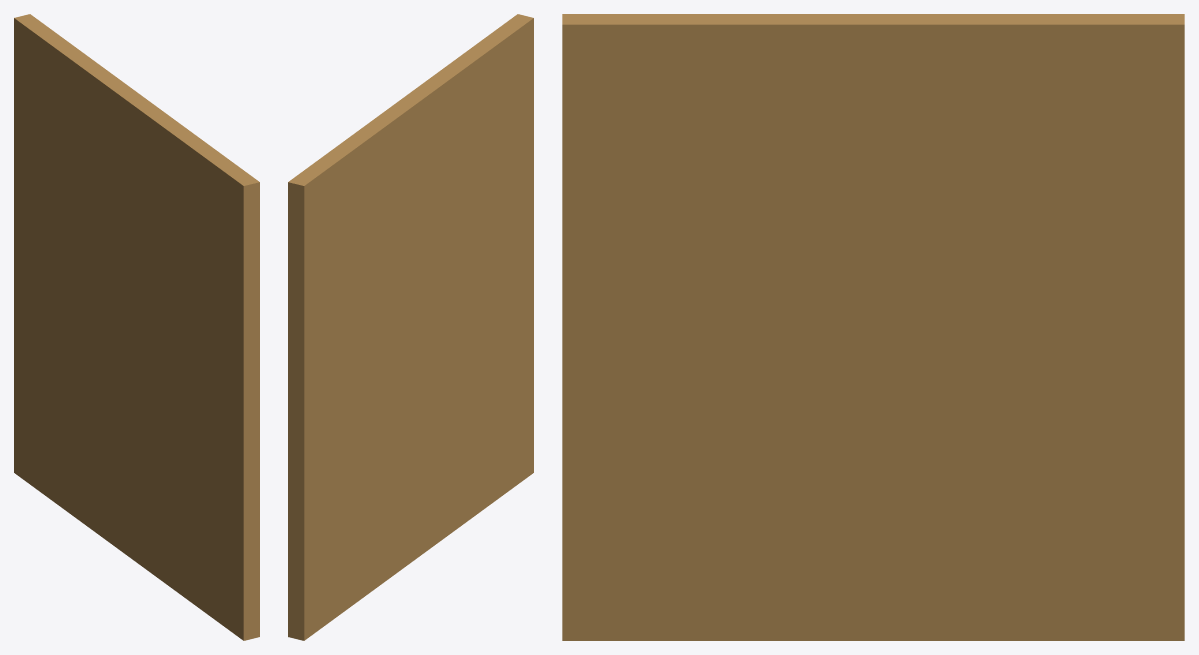
3 views of the same model, side by side, from view 1: azimuth 30°, elevation 25°; view 2: azimuth 150°, elevation 25°; view 3: azimuth 270°, elevation 25° (orthographic). The views are drawn at different scales.
Visible parts, largest first — view 1: FF-W054; view 2: FF-W054; view 3: FF-W054.
Boxes of the visible parts, x1,y1,x2,y2 form: FF-W054: [14, 14, 259, 640]; FF-W054: [288, 14, 533, 640]; FF-W054: [562, 14, 1184, 640].
Size of the model in its own units: 0.09 by 2.42 by 2.22.
